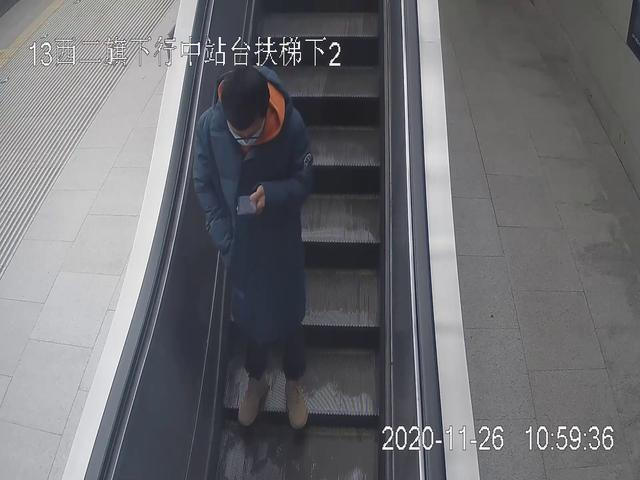person: (191, 63, 317, 429)
